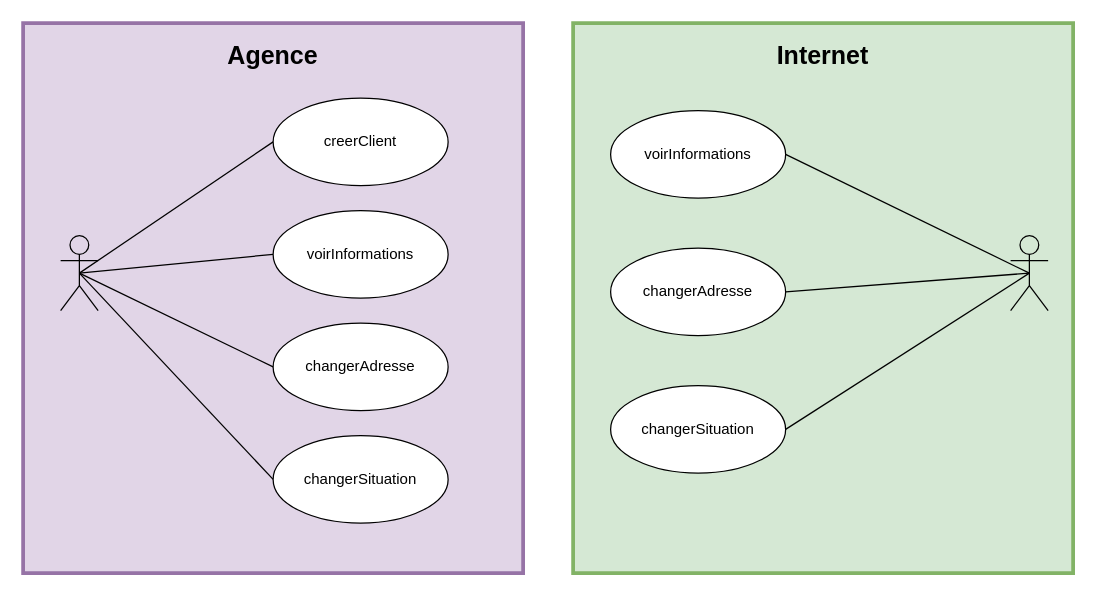
Image size: 1096x596. Some labels were removed from this diagram. Here are the shapes that lost their labels. From the top down, the centre of each, then its label:
the point at 78,272: Agent
the point at 1028,272: Client
